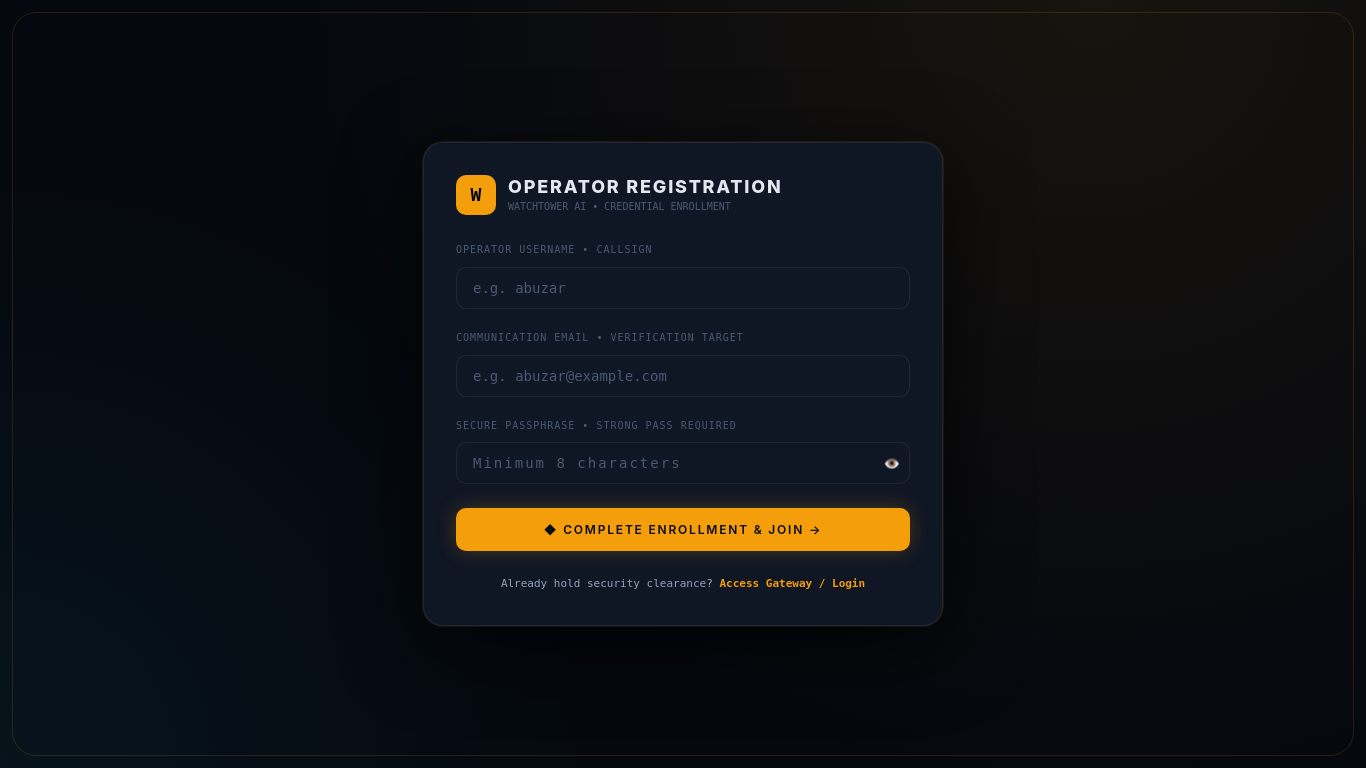
it: Auth Integration Tests (MSW + React Testing Library) › Scenario 4: Signup success — redirects to /login with banner, then login succeeds to dashboard
The image size is (1366, 768).
Type "john_doe" into the field with test id "signup-username-input".
click(683, 288); type("john_doe")  # box [456,267,910,309]
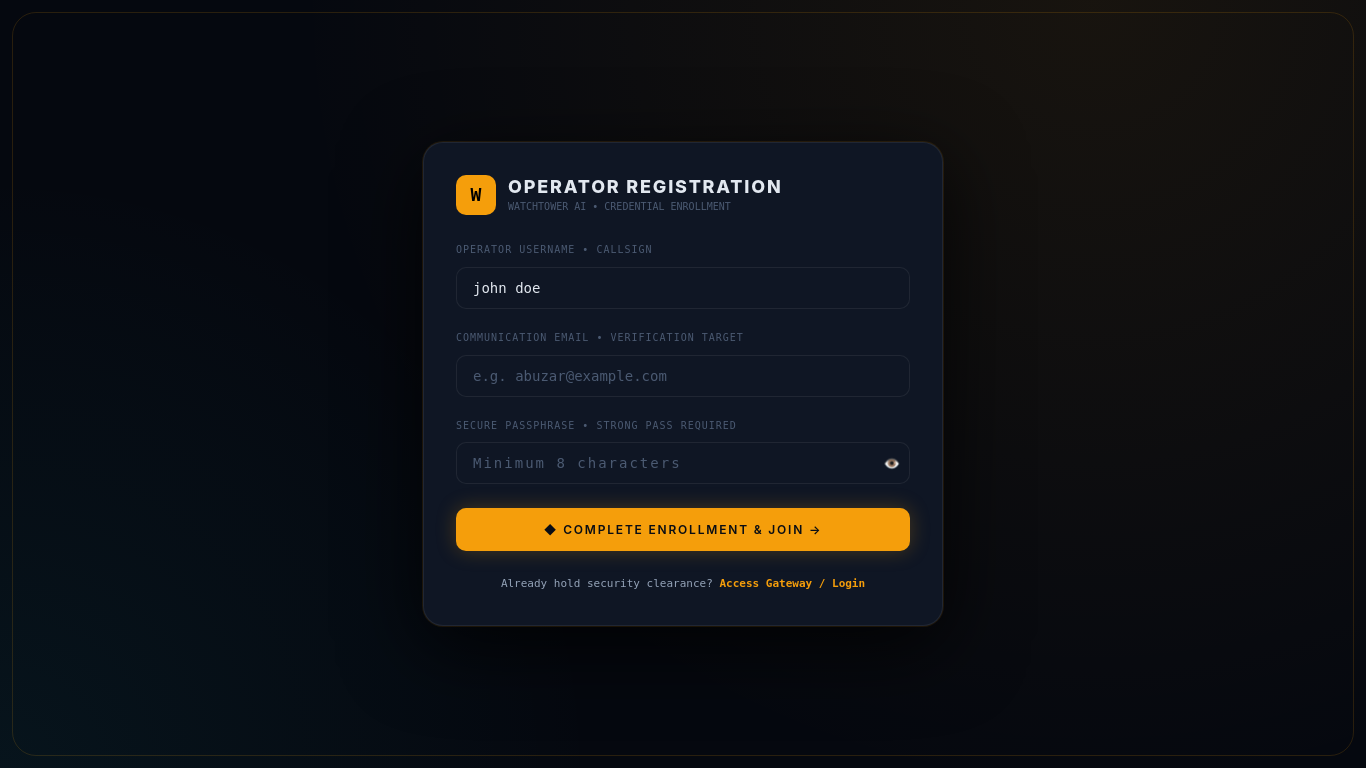
Type "john@example.com" into the field with test id "signup-email-input".
click(683, 376); type("john@example.com")  # box [456,354,910,396]
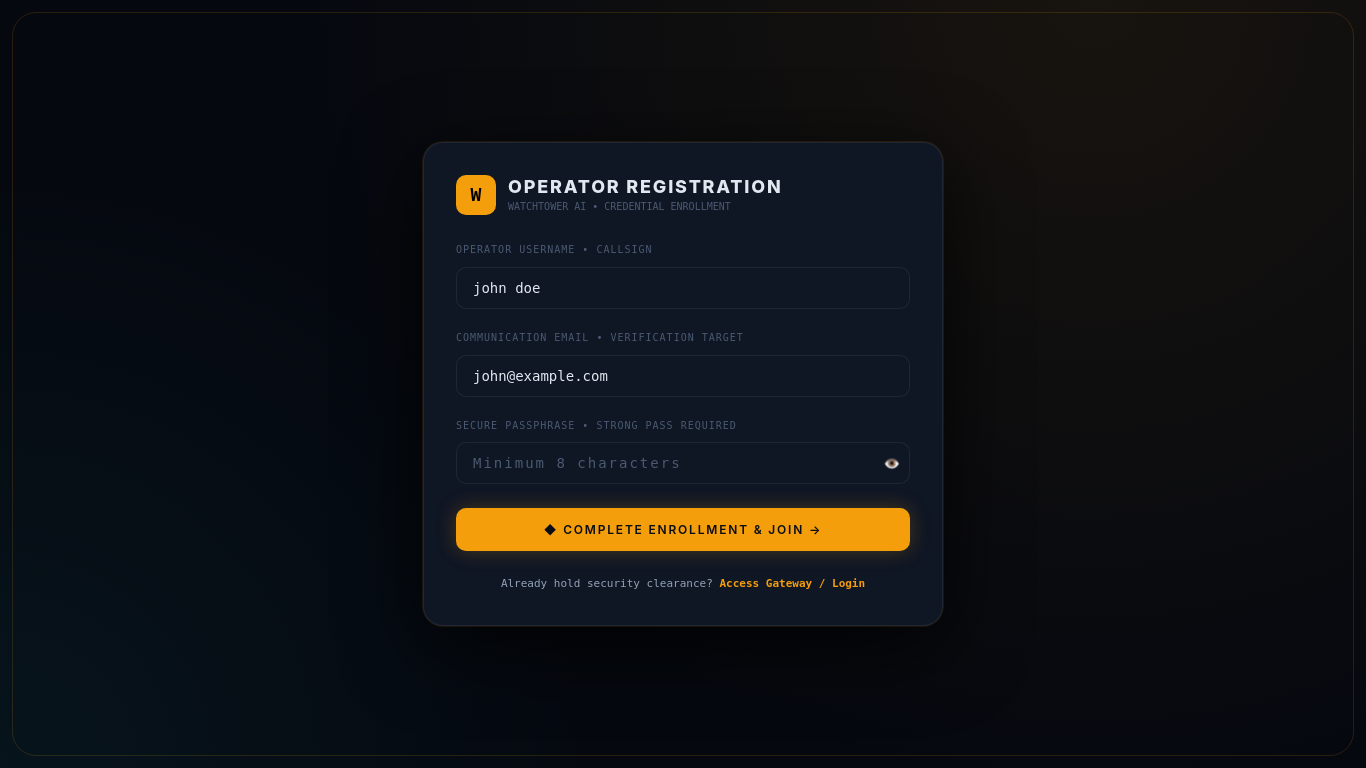
Type "StrongPassword123!" into the password field with test id "signup-password-input".
click(683, 463); type("StrongPassword123!")  # box [456,442,910,484]
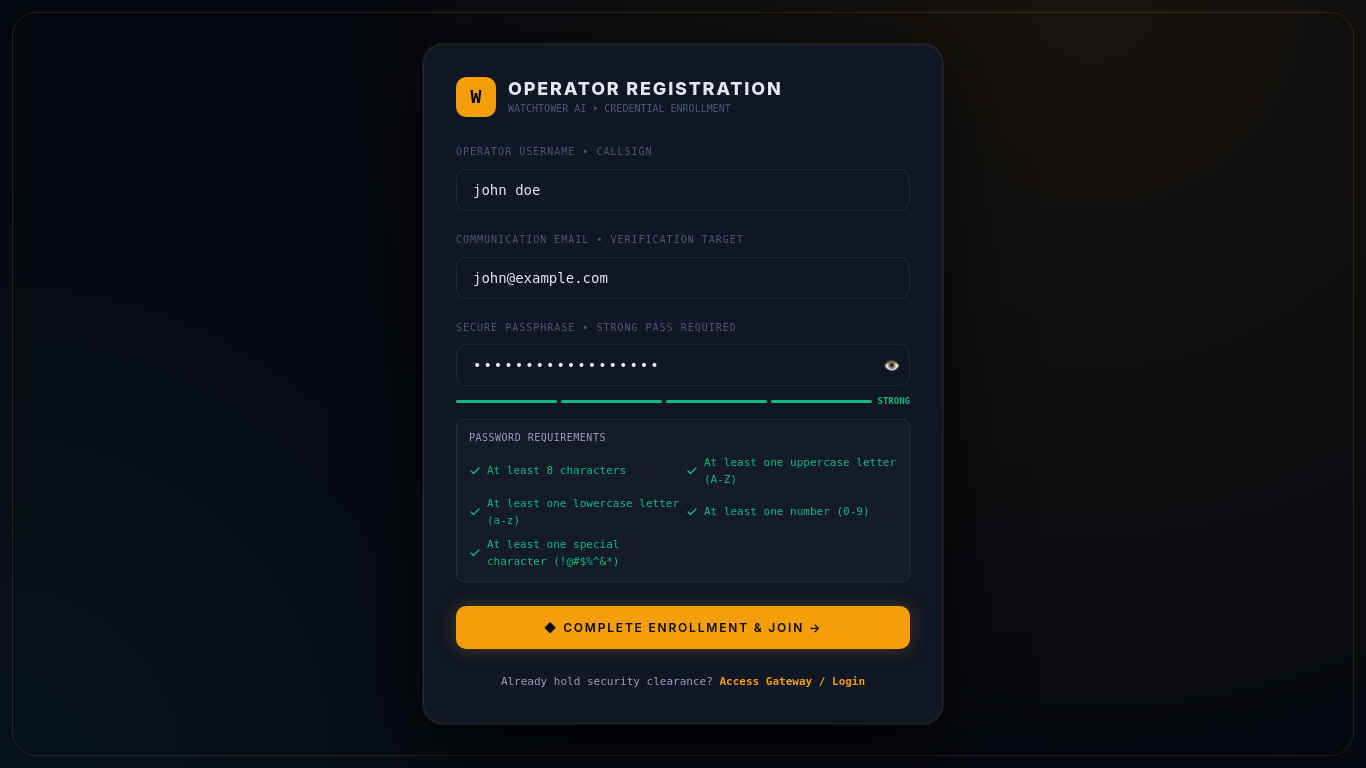
Click the button with test id "signup-submit-button".
click(683, 628)  # box [456,606,910,649]
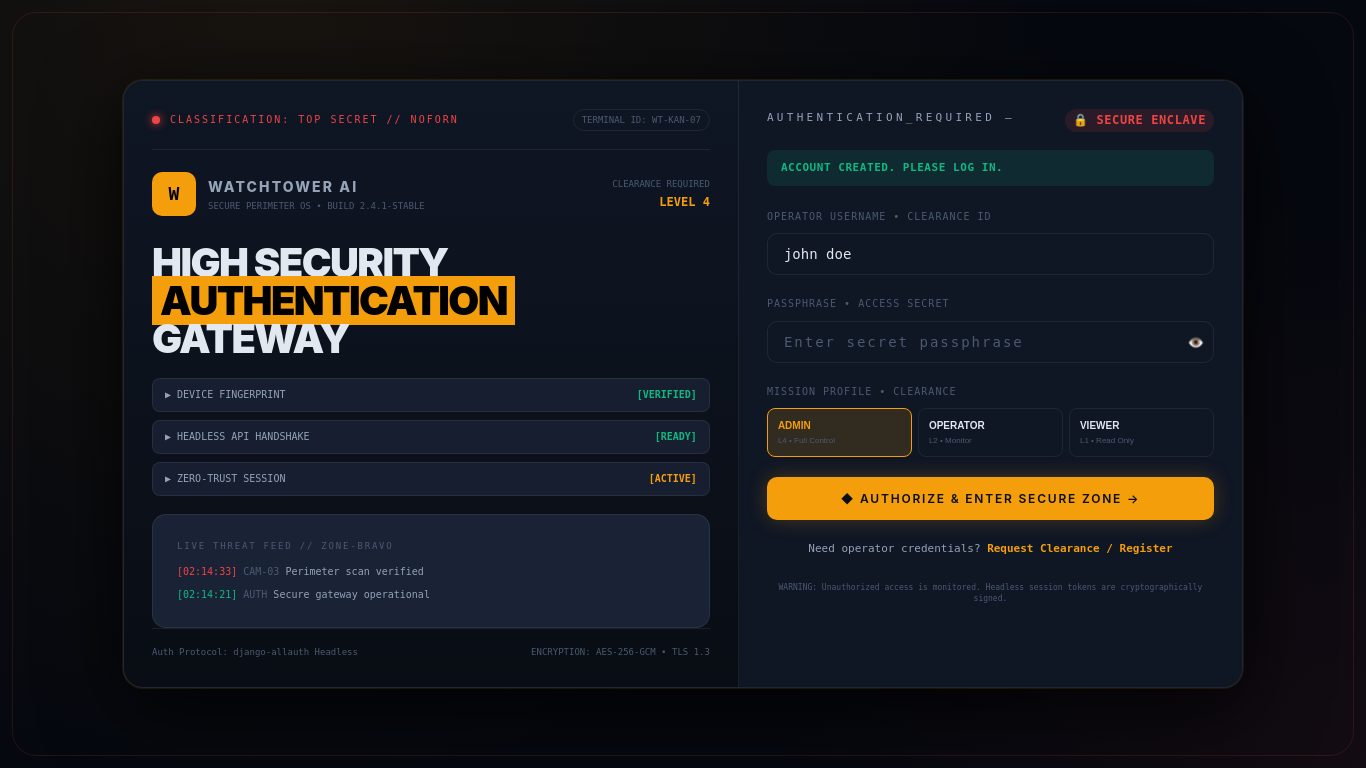
Expected: the element with test id "registered-success-banner" reads "Account created. Please log in.", [781,161,1003,174]
Expected: the field with test id "login-username-input" holds "john_doe", [767,233,1214,275]
Expected: the password field with test id "login-password-input" is empty
// Now log in with password
Type "StrongPassword123!" into the password field with test id "login-password-input".
click(990, 342); type("StrongPassword123!")  # box [767,321,1214,363]
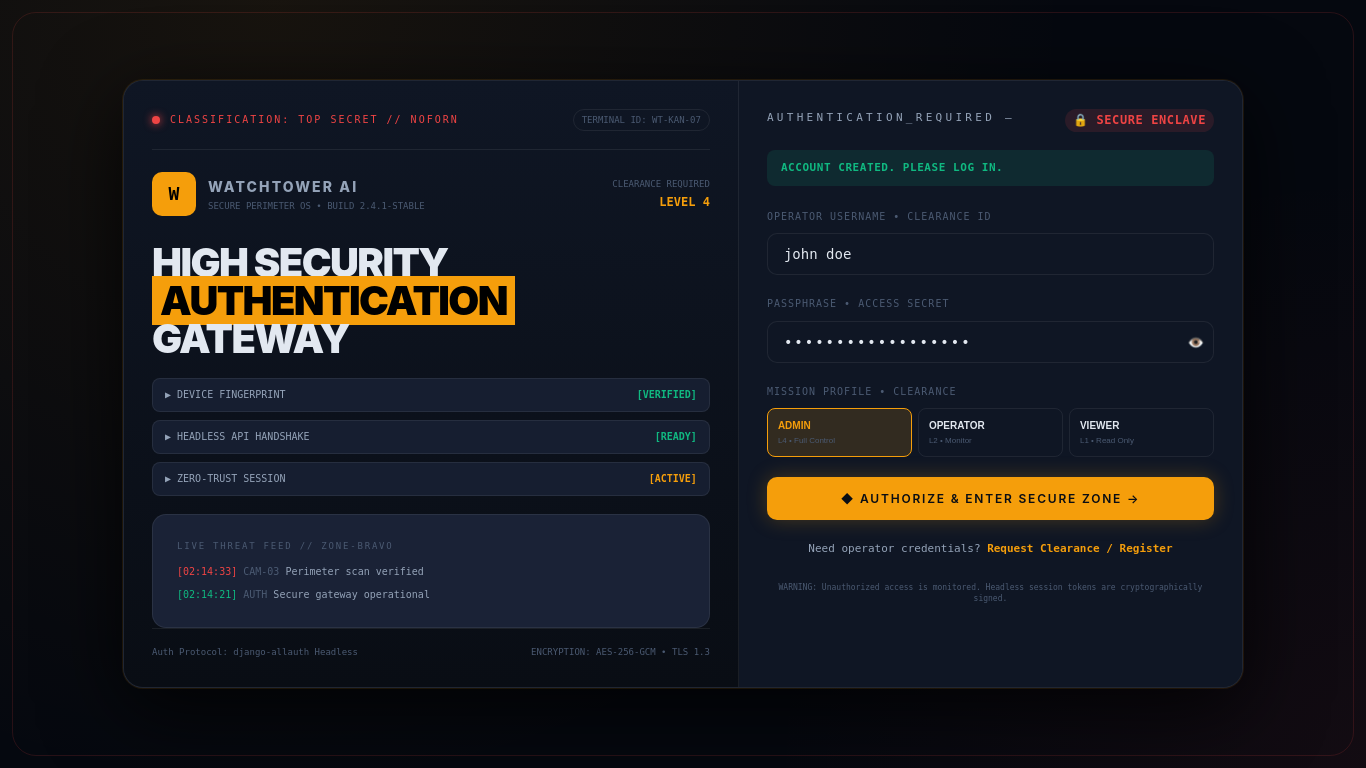
Click the button with test id "login-submit-button".
click(990, 498)  # box [767,477,1214,520]
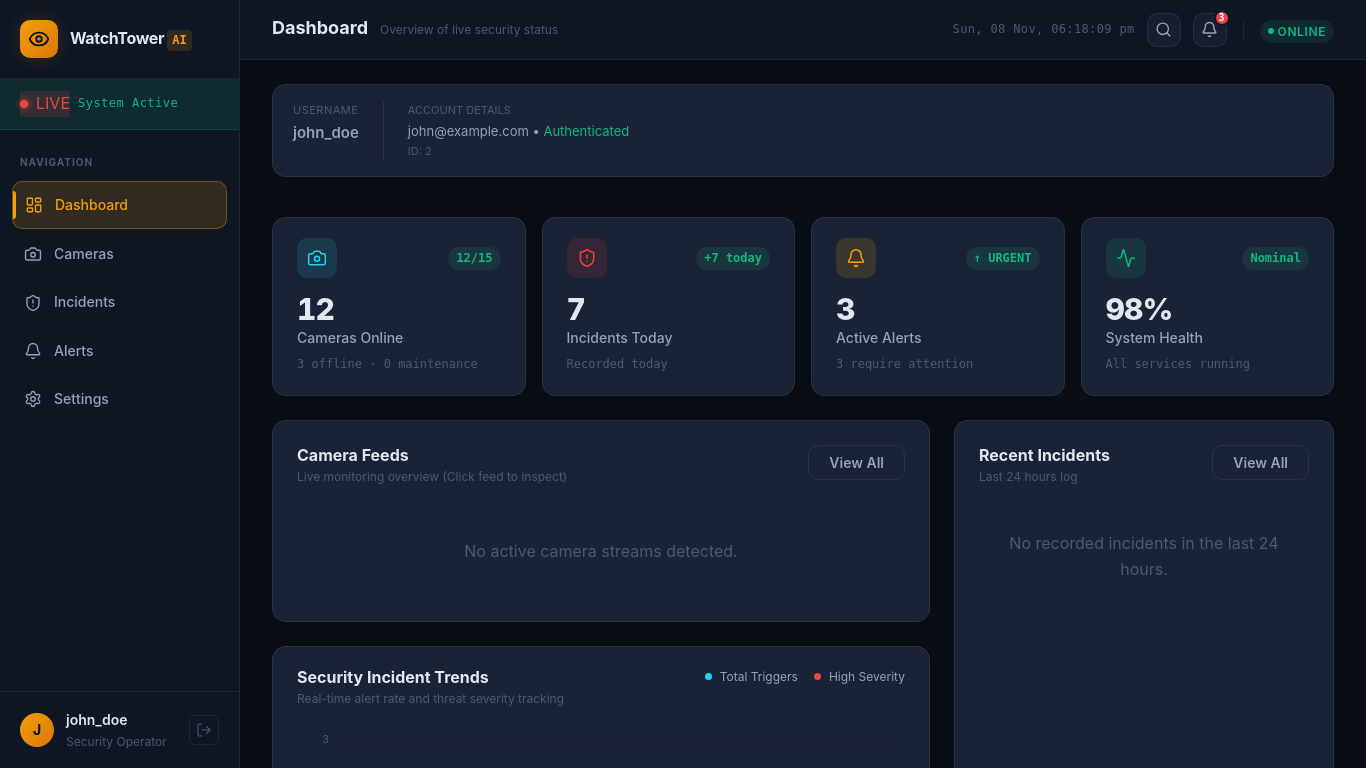
Expected: the heading "Camera Feeds" is shown, [297,445,409,465]
Expected: the text "john_doe" below "Settings" is shown, [66,711,127,728]
